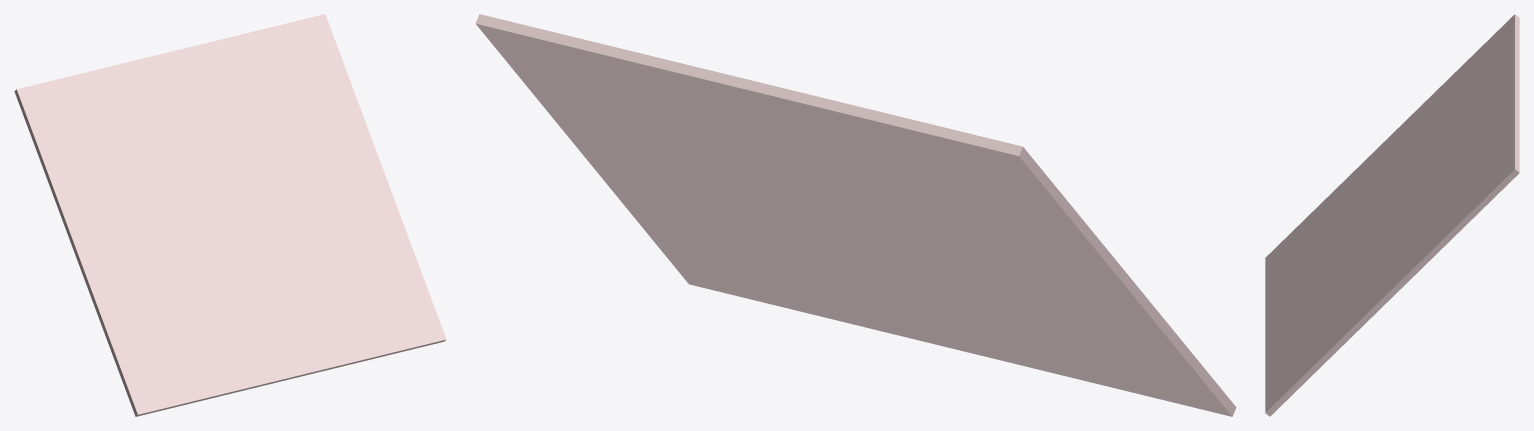
The model's file is piece.fbx.
3 renders of one model, left to right at view 1: azimuth 30°, elevation 25°; view 2: azimuth 150°, elevation 25°; view 3: azimuth 270°, elevation 25°, orthographic. The views are drawn at different scales.
Visible parts, largest first — view 1: pPlane25; view 2: pPlane25; view 3: pPlane25.
Boxes of the visible parts, x1,y1,x2,y2 form: pPlane25: (14, 14, 446, 416); pPlane25: (475, 14, 1236, 416); pPlane25: (1265, 14, 1519, 416).
Size of the model in its own units: 77.39 by 57.64 by 53.62.
